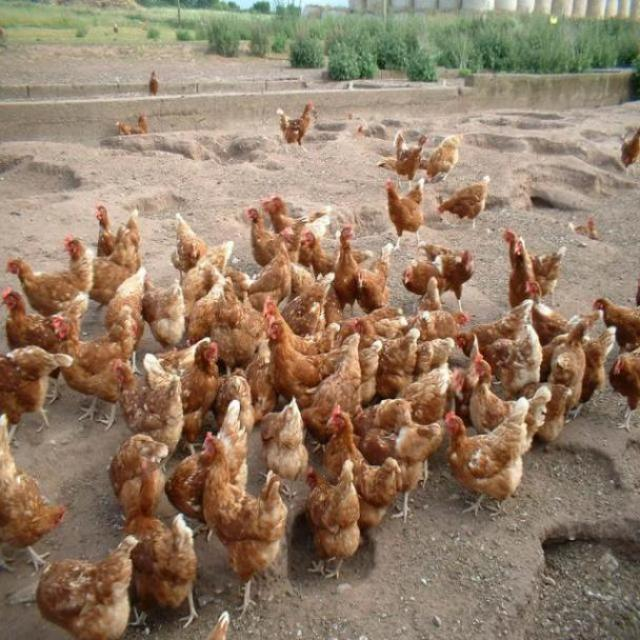Chicken: (0, 195, 640, 639), (201, 439, 286, 595), (432, 176, 490, 236), (383, 172, 423, 251), (389, 128, 431, 197), (277, 100, 319, 160), (421, 133, 464, 185), (110, 105, 156, 142), (616, 122, 640, 178), (558, 214, 602, 244), (148, 65, 161, 98)
